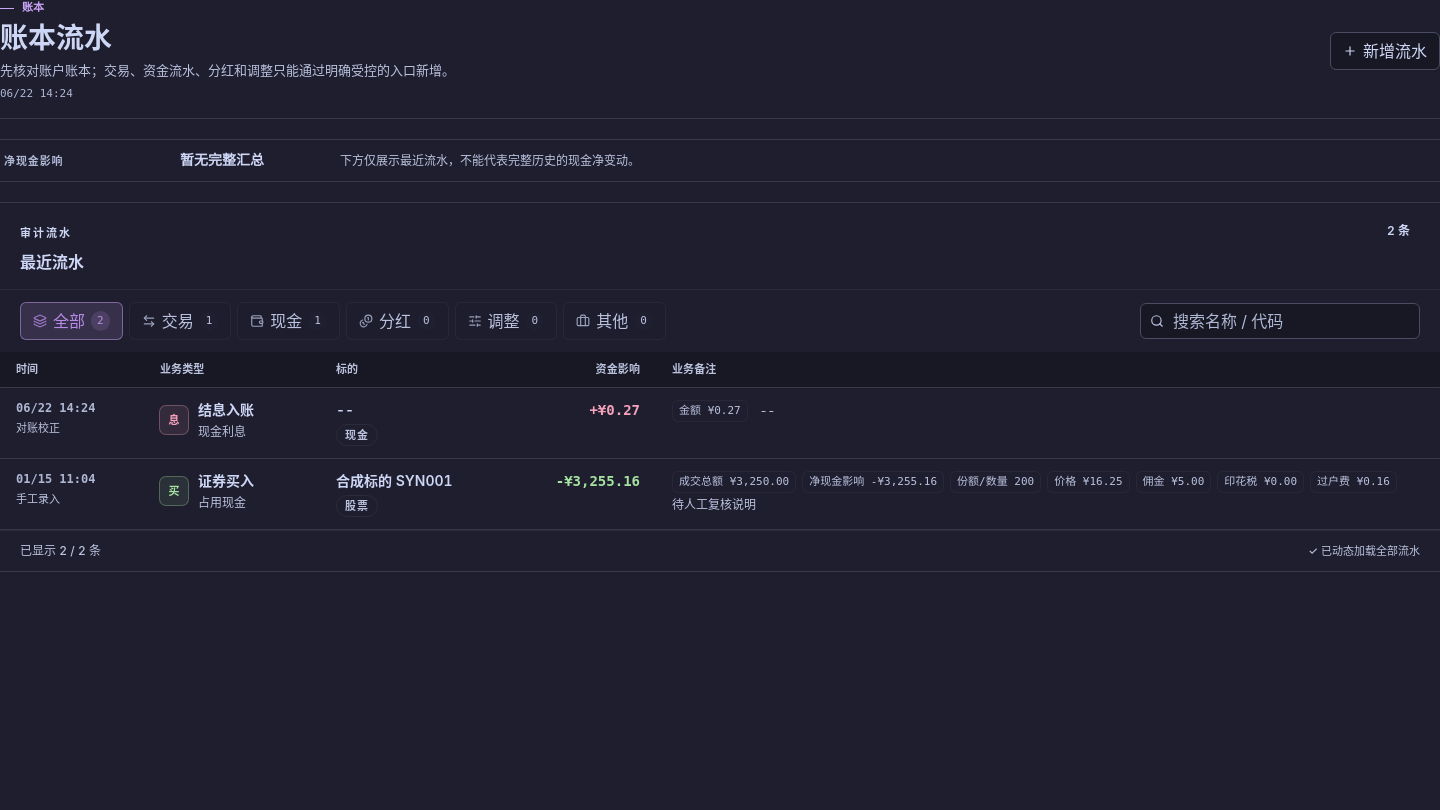
it: keeps immutable history as the primary surface and opens entry tools on demand
Expected: the heading "账本流水" is shown, x1=0 y1=21 x2=112 y2=55
Expected: the element that starts with "审计流水" is shown, x1=0 y1=202 x2=1439 y2=572
Click the button "新增流水" at (1385, 51), box x1=1330 y1=32 x2=1439 y2=70
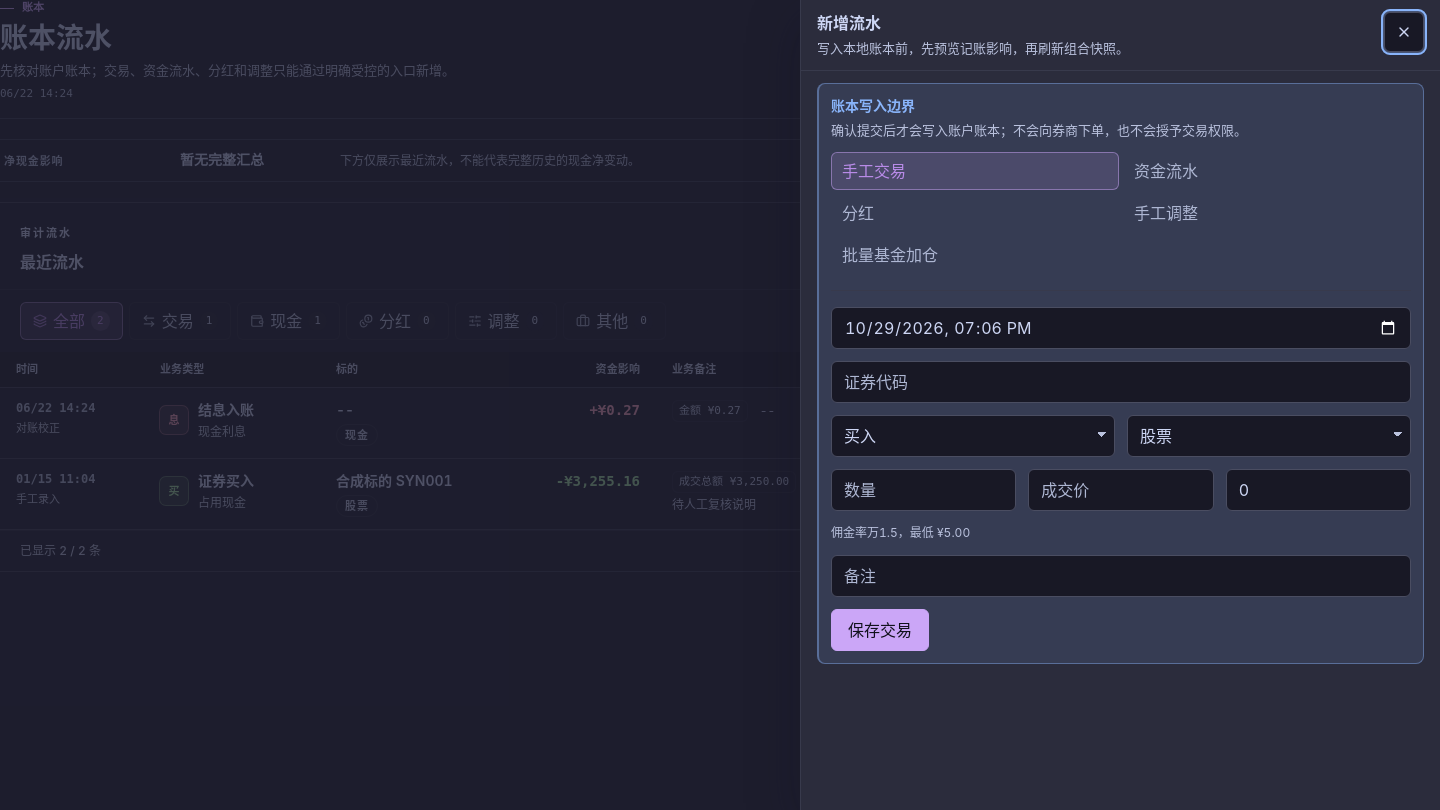
Expected: the element that starts with "账本写入边界" is shown, x1=817 y1=83 x2=1424 y2=664
Click the button "资金流水" at (1166, 171), box x1=1123 y1=152 x2=1411 y2=190
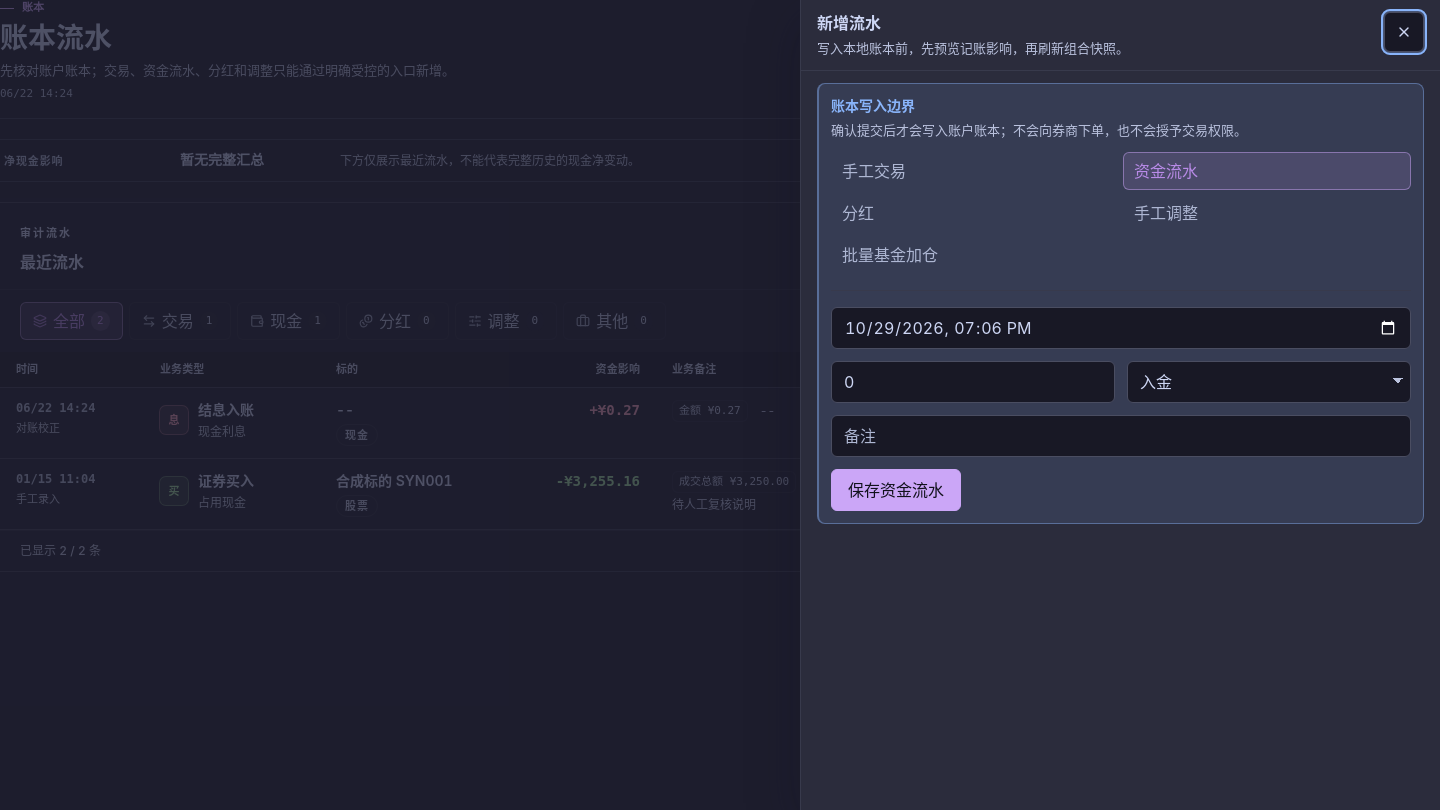
Expected: the field named "资金流水发生时间" is shown, x1=831 y1=307 x2=1411 y2=349
Expected: the field labelled "证券代码" is gone
